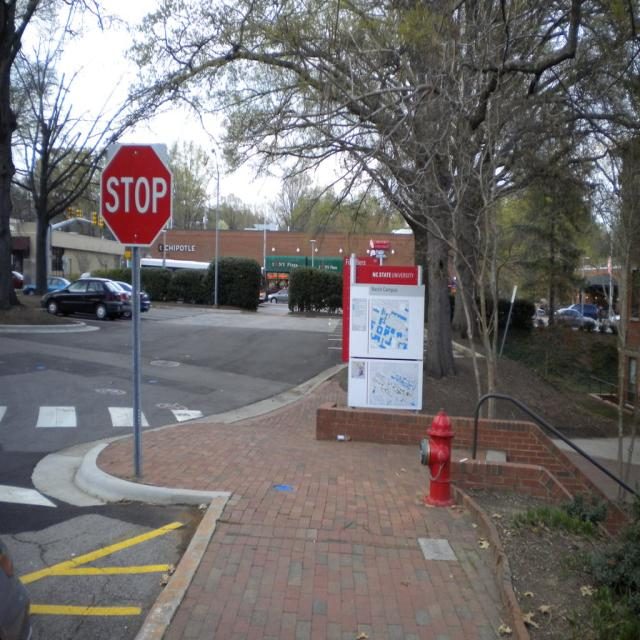Stop-sign: (99, 141, 172, 248)
